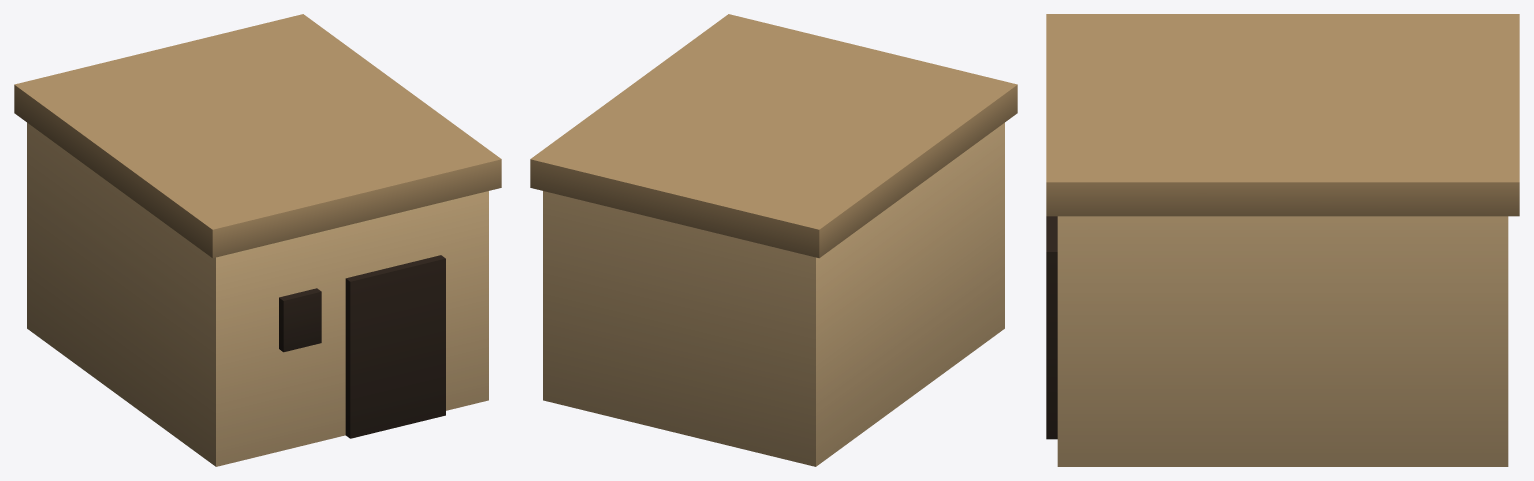
The model's file is house_MA_2a.glb.
3 renders of one model, left to right at view 1: azimuth 30°, elevation 25°; view 2: azimuth 150°, elevation 25°; view 3: azimuth 270°, elevation 25°, orthographic. The views are drawn at different scales.
Parts seen in each view (by area): view 1: Body; view 2: Body; view 3: Body.
Boxes of the visible parts, x1=… form: Body: x1=14, y1=14, x2=501, y2=466; Body: x1=530, y1=14, x2=1017, y2=466; Body: x1=1046, y1=14, x2=1519, y2=466.
Size of the model in its own units: 1.06 by 0.85 by 1.26.
Materials: 1 (1 with a texture image).
